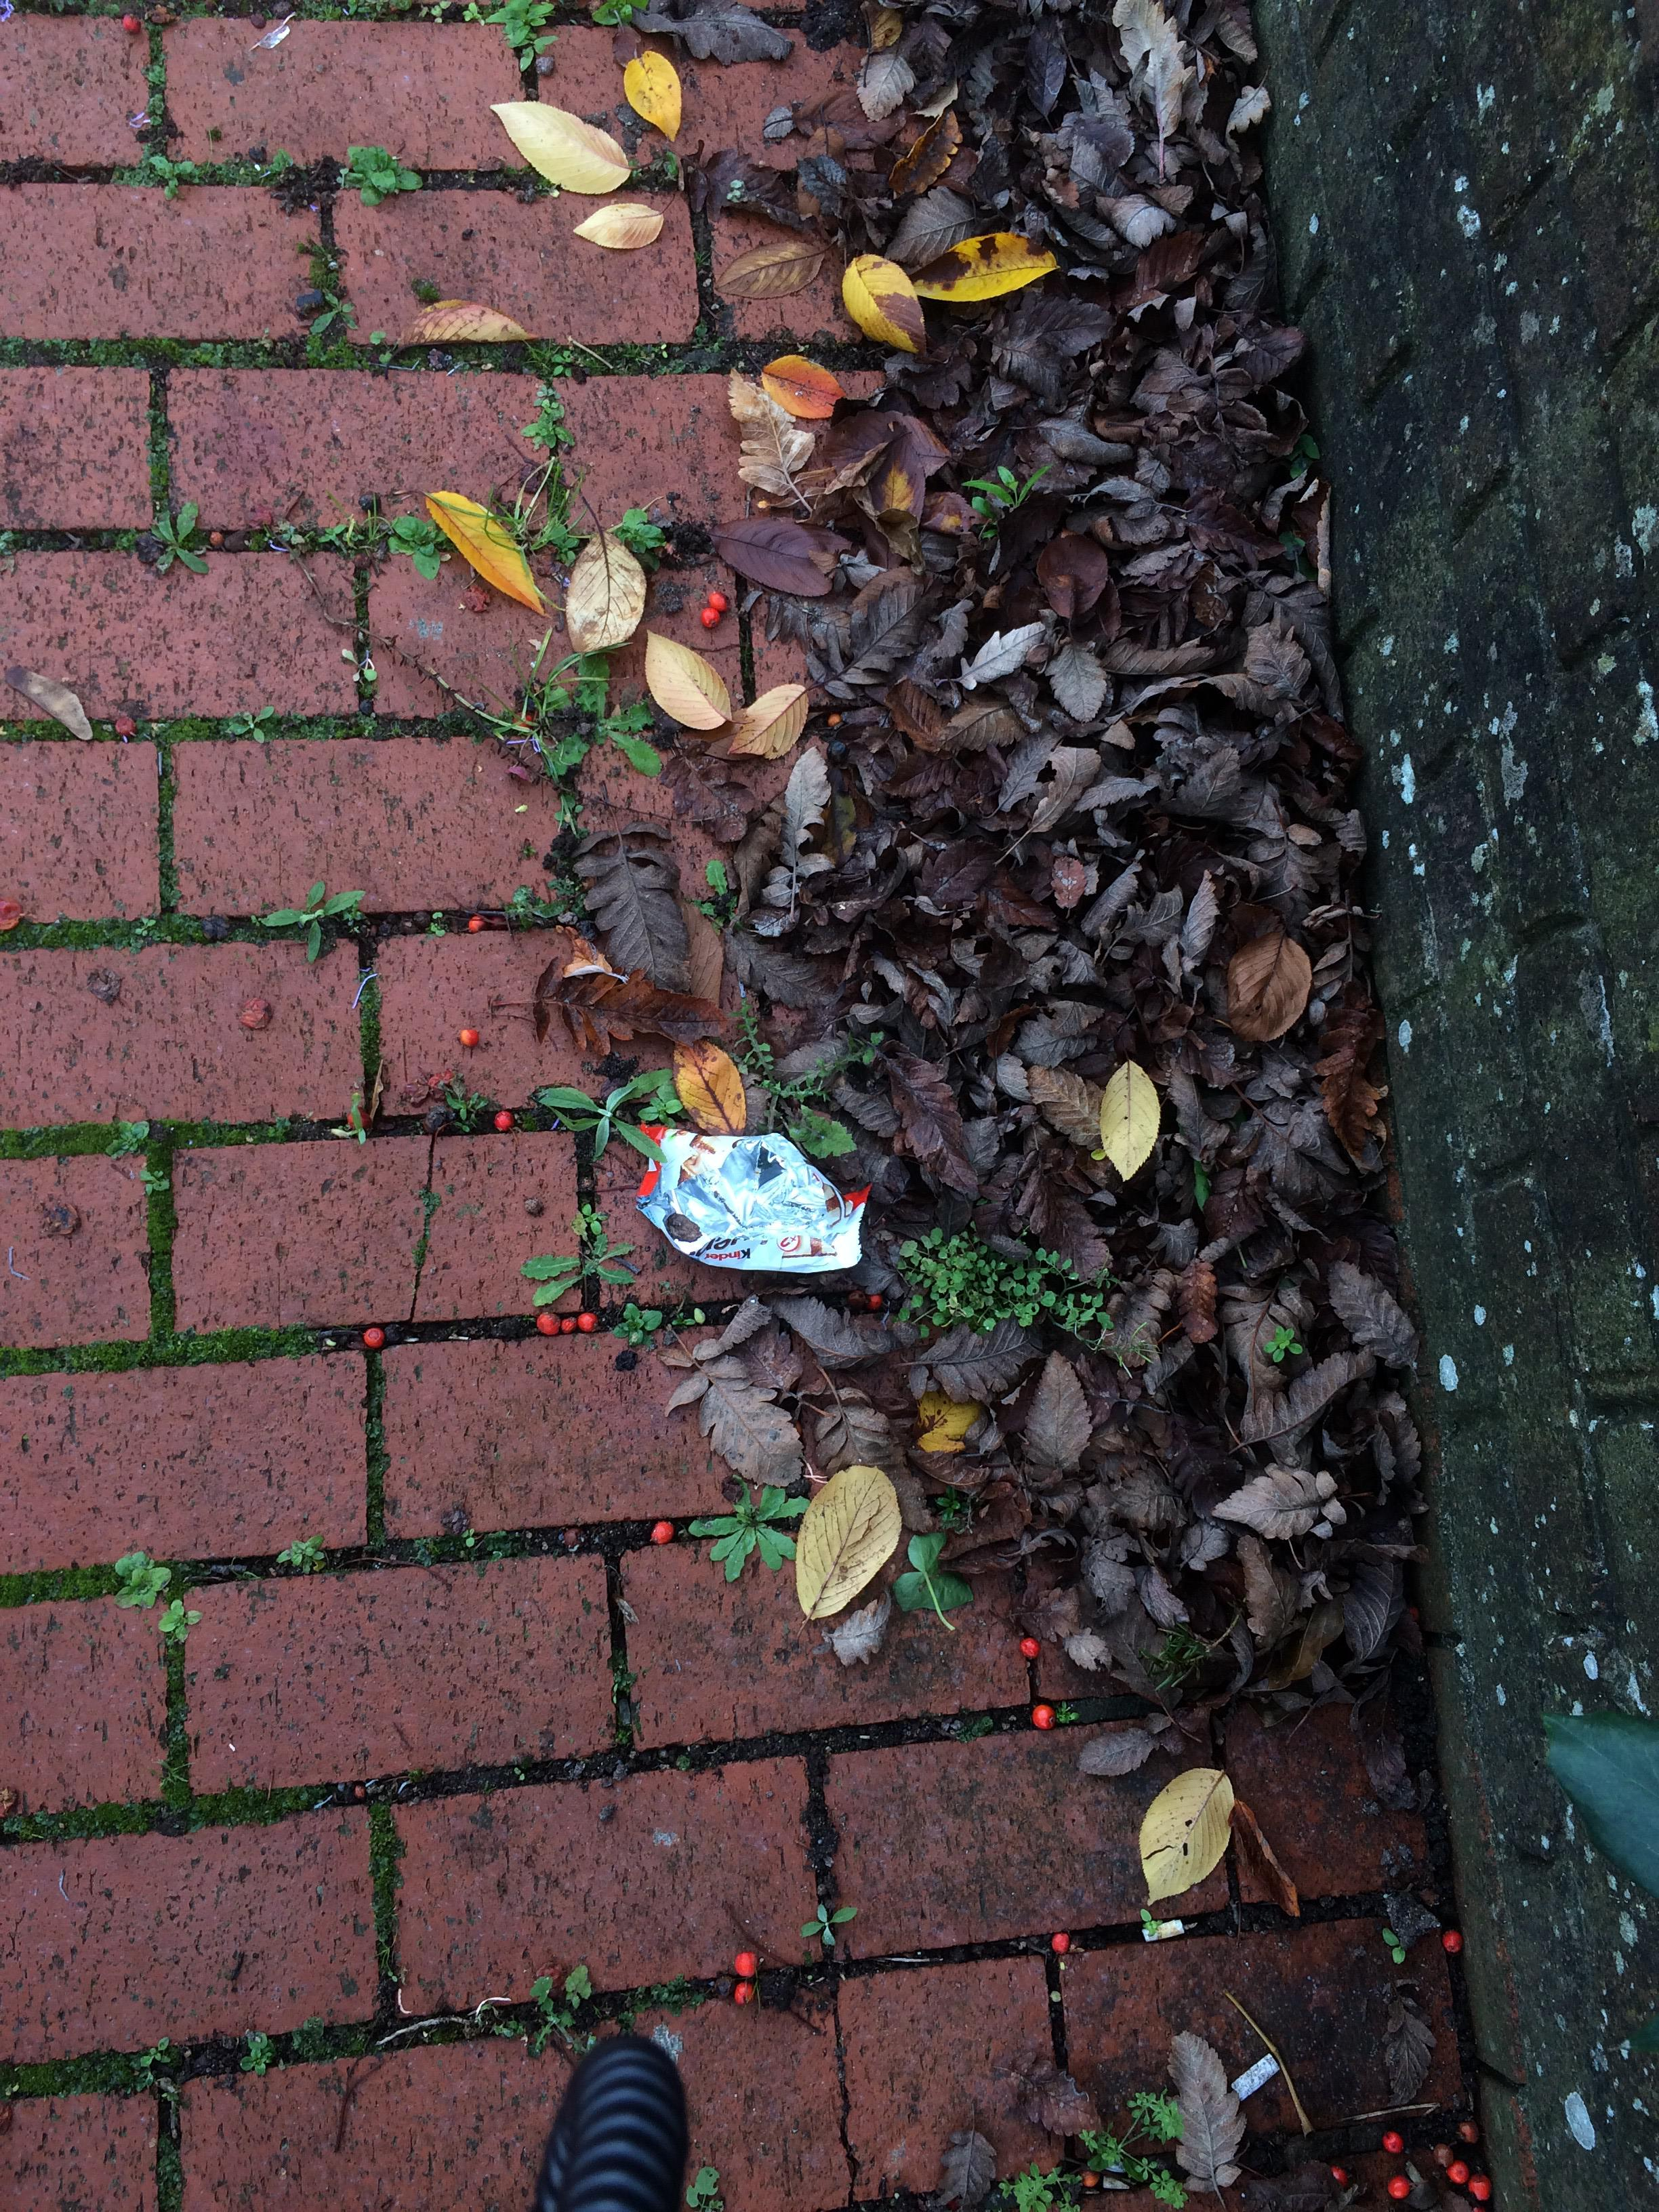Trash: (629, 1103, 870, 1282)
